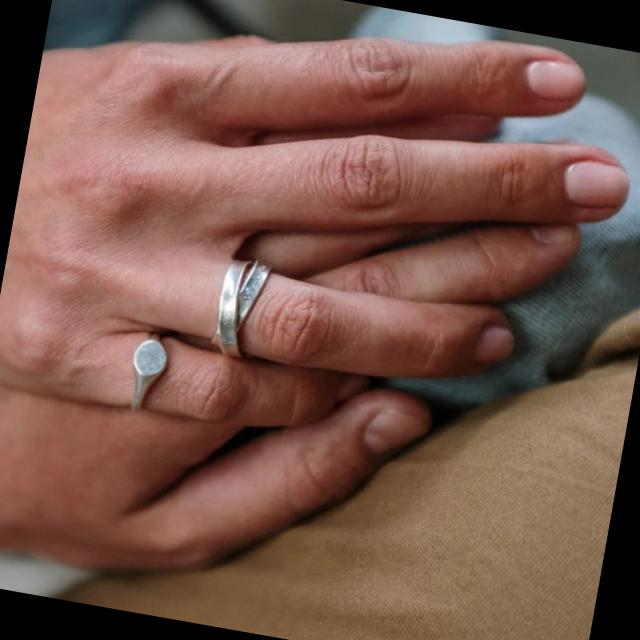Nail: (566, 158, 630, 206), (364, 405, 426, 451), (526, 58, 586, 99), (476, 324, 515, 362), (532, 223, 575, 242)
